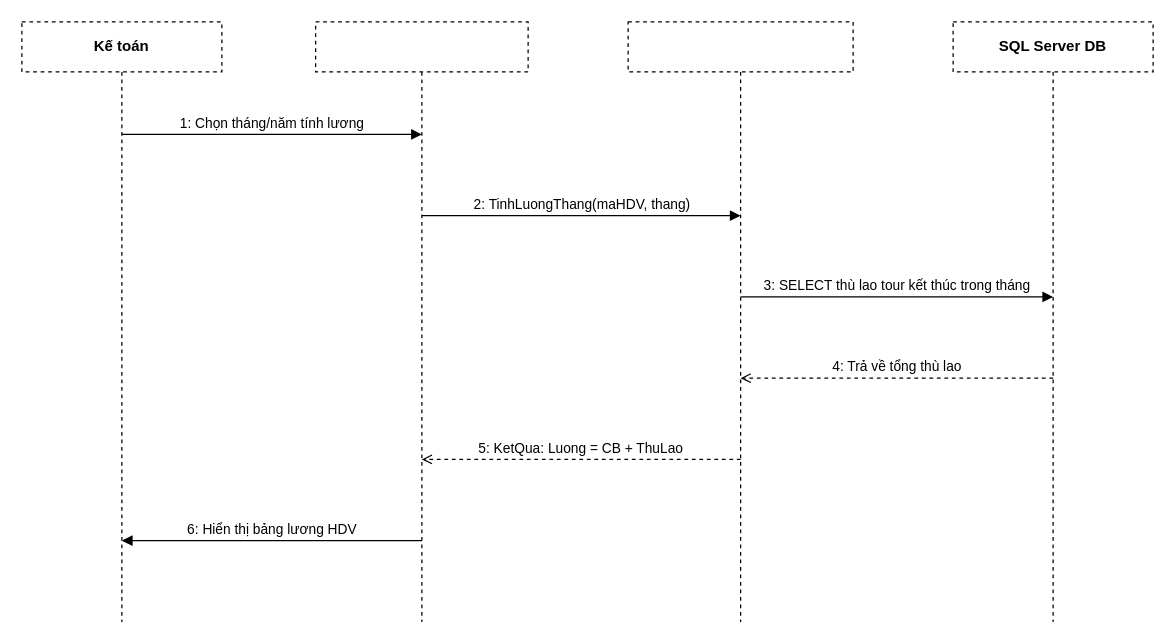
The diagram is 1175 pixels wide and 644 high, and some of its shapes have lost their labels. The box of each missing label's shape, as (x1, y1, x2, y2) in pixels:
FrmLuongThongKe: (314, 21, 528, 622)
ThongKeService: (627, 21, 853, 622)
